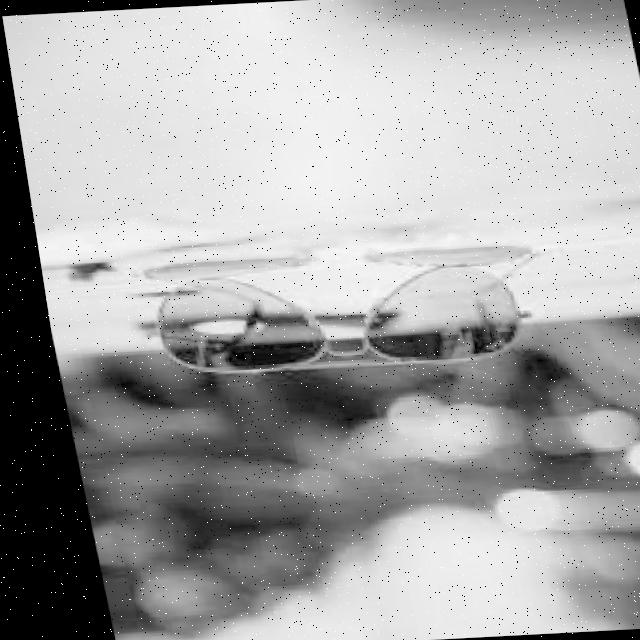gozluk: (108, 210, 535, 394)
